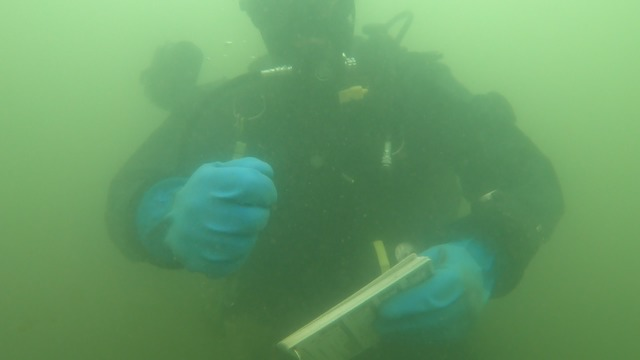Hand: (116, 142, 298, 288), (356, 218, 520, 342)
